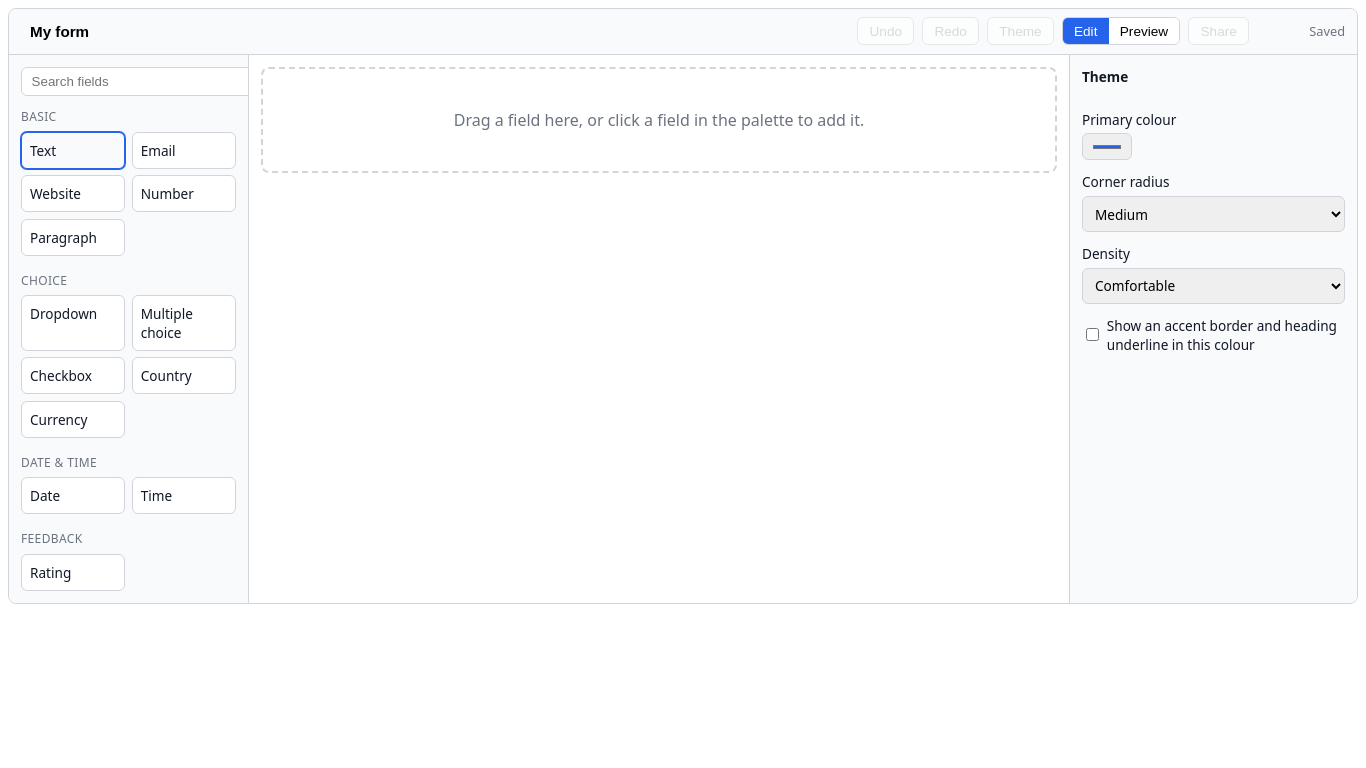
Test case: Builder › clicking a palette item adds the field to the canvas and selects it
The width and height of the screenshot is (1366, 768).
Click the option with aria-label "Add Text field" at (73, 150), box [21,132,125,169]
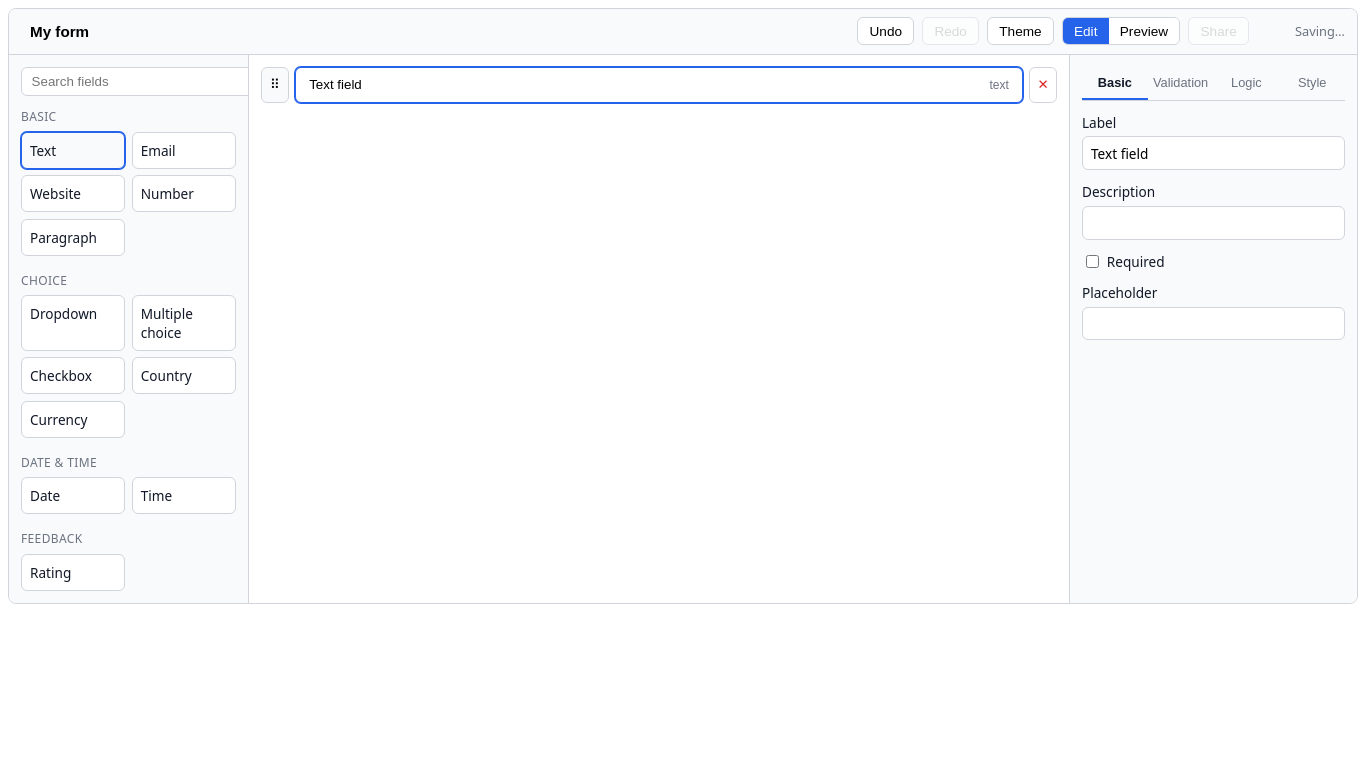
Result: the button "Text field text" is shown at [295,67,1023,103]
Result: the tab "Basic" is shown at [1082,67,1148,100]
